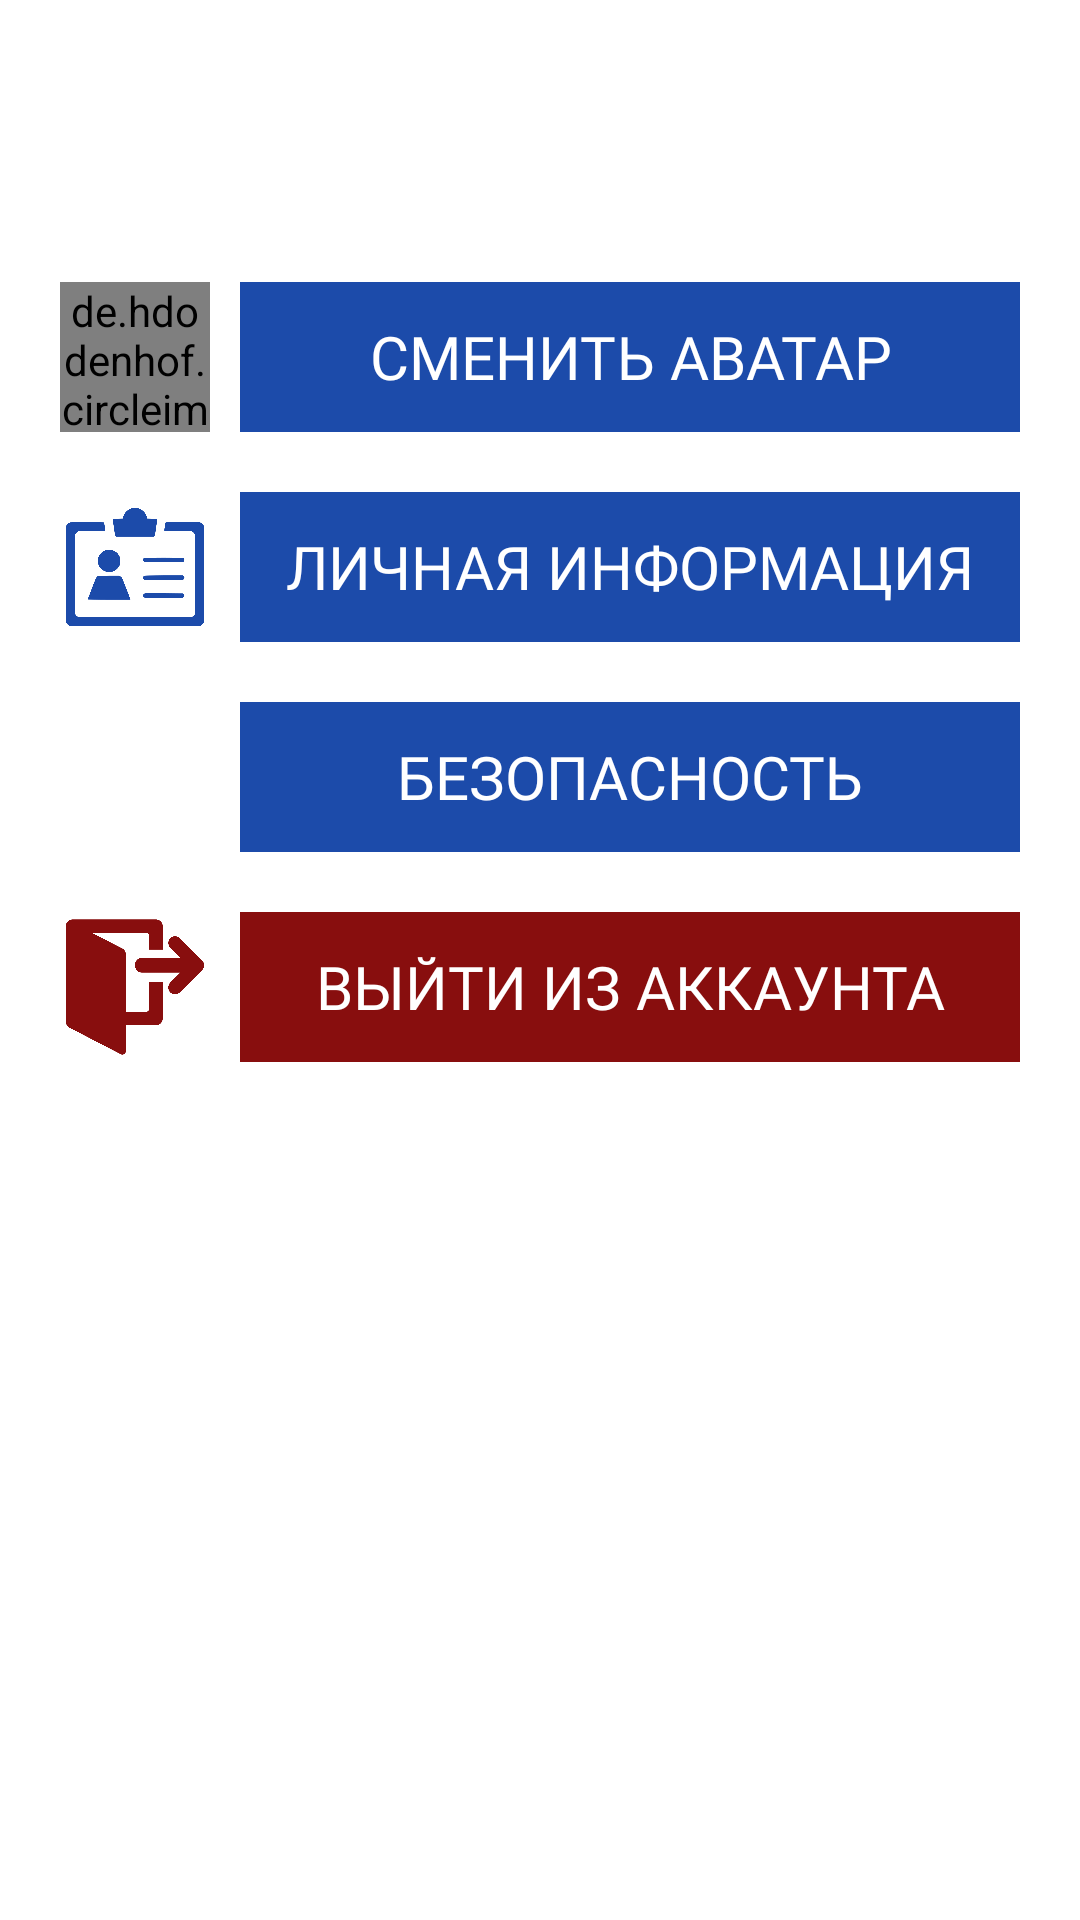

Icon click points for this 1080*1920 phone screenshot, format (x,y):
exit: (135,987)
